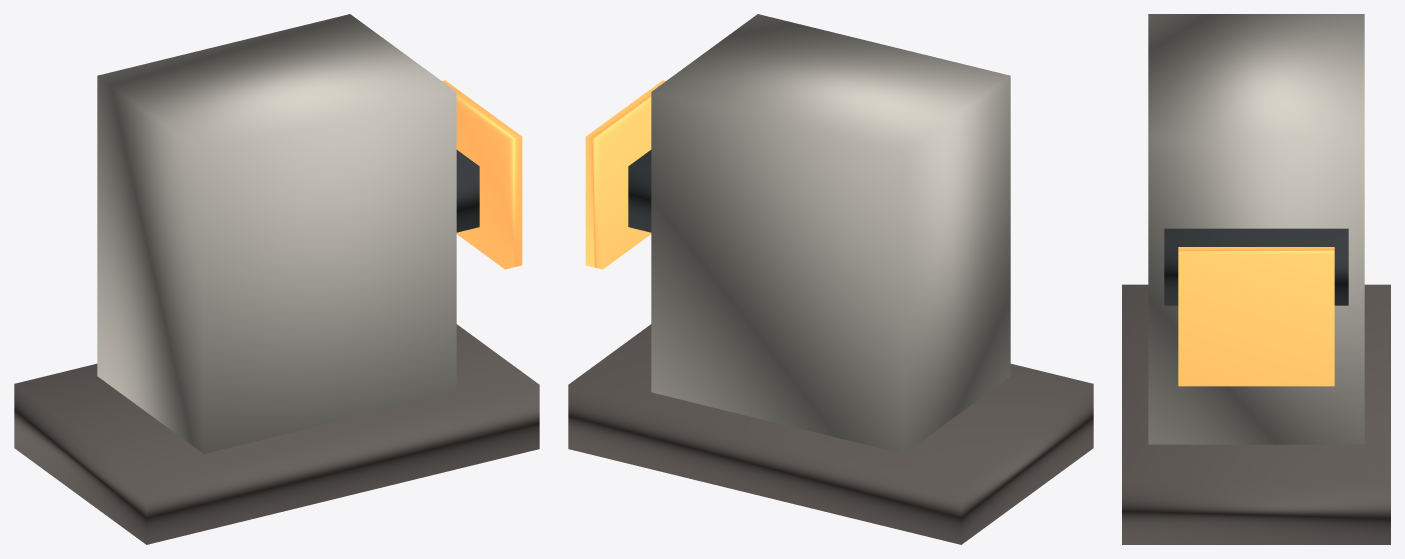
File: solar-yard-sinter-forge-lod2.glb
3 views of the same model, side by side, from view 1: azimuth 30°, elevation 25°; view 2: azimuth 150°, elevation 25°; view 3: azimuth 270°, elevation 25° (orthographic).
Visible parts, largest first — view 1: solar-yard-sinter-forge-chamber, solar-yard-sinter-forge-skid, solar-yard-sinter-forge-hot-face, solar-yard-sinter-forge-hearth; view 2: solar-yard-sinter-forge-chamber, solar-yard-sinter-forge-skid, solar-yard-sinter-forge-hot-face, solar-yard-sinter-forge-hearth; view 3: solar-yard-sinter-forge-chamber, solar-yard-sinter-forge-skid, solar-yard-sinter-forge-hot-face, solar-yard-sinter-forge-hearth.
Boxes of the visible parts, x1,y1,x2,y2 form: solar-yard-sinter-forge-chamber: (97,14,456,453); solar-yard-sinter-forge-skid: (14,324,539,544); solar-yard-sinter-forge-hot-face: (442,80,522,269); solar-yard-sinter-forge-hearth: (456,150,479,232); solar-yard-sinter-forge-chamber: (651,14,1010,453); solar-yard-sinter-forge-skid: (568,324,1093,544); solar-yard-sinter-forge-hot-face: (585,80,665,269); solar-yard-sinter-forge-hearth: (628,150,651,232); solar-yard-sinter-forge-chamber: (1148,14,1364,444); solar-yard-sinter-forge-skid: (1122,284,1390,544); solar-yard-sinter-forge-hot-face: (1178,247,1334,386); solar-yard-sinter-forge-hearth: (1164,228,1348,305).
Size of the model in its own units: 2.36 by 2.04 by 1.34.
